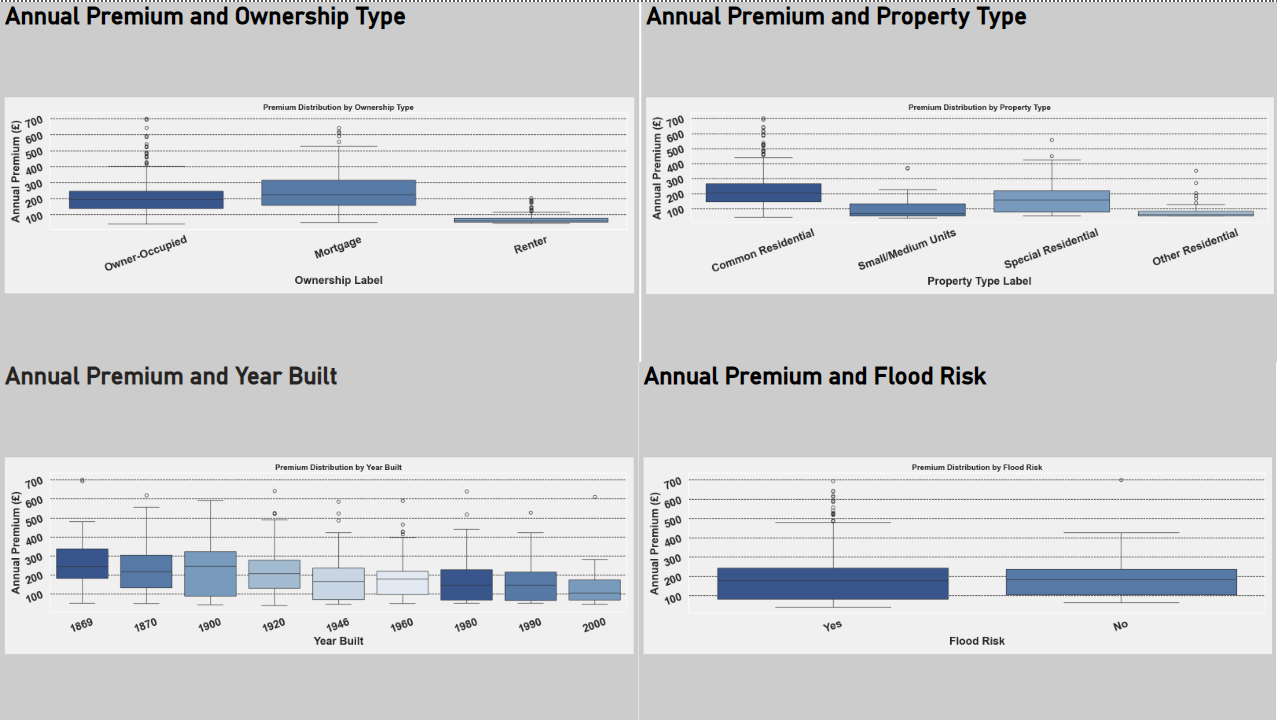

Layout of this report page (visuals, bound fields, positions):
{"tool":"powerbi","page":{"name":"PREMIUM DRIVERS & BUSINESS IMPACT","canvas":[1280,720],"ordinal":4},"visuals":[{"type":"pythonVisual","title":"Annual Premium and Ownership Type","fields":{"Values":["sql_cleaned_home_insurance.Annual Premium","sql_cleaned_home_insurance.Ownership Label"]},"box":[0,0,639,359.7],"z":0},{"type":"pythonVisual","title":"Annual Premium and Property Type","fields":{"Values":["sql_cleaned_home_insurance.Annual Premium","sql_cleaned_home_insurance.Property Type Label"]},"box":[641.2,0,638.8,360],"z":1},{"type":"pythonVisual","title":"Annual Premium and Year Built","fields":{"Values":["sql_cleaned_home_insurance.Annual Premium","sql_cleaned_home_insurance.Year Built (bins)"]},"box":[0,360,638.8,360],"z":2},{"type":"pythonVisual","title":"Annual Premium and Flood Risk","fields":{"Values":["sql_cleaned_home_insurance.Annual Premium","sql_cleaned_home_insurance.Year Built (bins)"]},"box":[638.8,360,638.8,360],"z":3}]}

Visuals, with their boxes in screenshot pixels (x1, y1, x2, y2), scaled from the page's 1280x720 canvas onto the 1277x720 screenshot:
"Annual Premium and Ownership Type" pythonVisual: Rect(0, 0, 638, 360)
"Annual Premium and Property Type" pythonVisual: Rect(640, 0, 1276, 360)
"Annual Premium and Year Built" pythonVisual: Rect(0, 360, 637, 719)
"Annual Premium and Flood Risk" pythonVisual: Rect(637, 360, 1275, 719)
